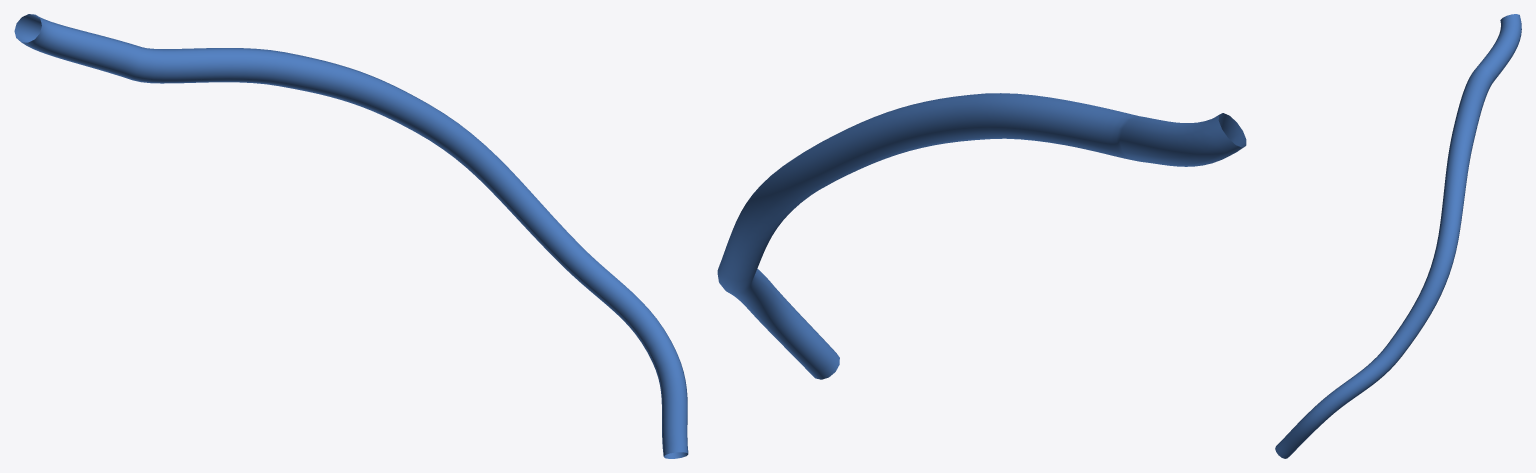
The picture shows the model from 3 angles, left to right: view 1: azimuth 30°, elevation 25°; view 2: azimuth 150°, elevation 25°; view 3: azimuth 270°, elevation 25°; orthographic projection. The views are drawn at different scales.
Visible parts, largest first — view 1: 右侧岩下窦; view 2: 右侧岩下窦; view 3: 右侧岩下窦.
Part boxes in pixels (x1,y1,x2,y2): 右侧岩下窦: (14,14,688,458); 右侧岩下窦: (717,93,1246,379); 右侧岩下窦: (1275,14,1521,458).
Size of the model in its own units: 0.056 by 0.0451 by 0.0347.
